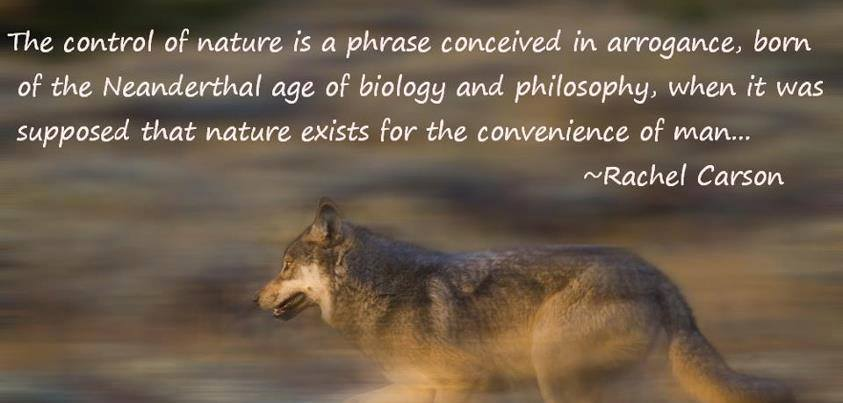Lobo: (215, 198, 777, 394)
